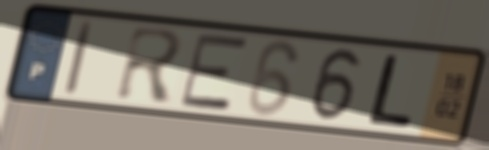6: (243, 37, 306, 119), (309, 45, 364, 124)
E: (177, 32, 251, 113)
I: (60, 18, 97, 100)
L: (364, 51, 416, 131)
R: (112, 23, 189, 105)
